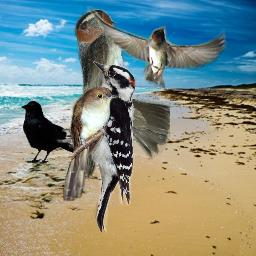Crow: (19, 100, 83, 164)
Cuckoo: (63, 86, 118, 201)
Swallow: (74, 9, 170, 182), (87, 6, 228, 90)
Woodpecker: (56, 59, 138, 233)
